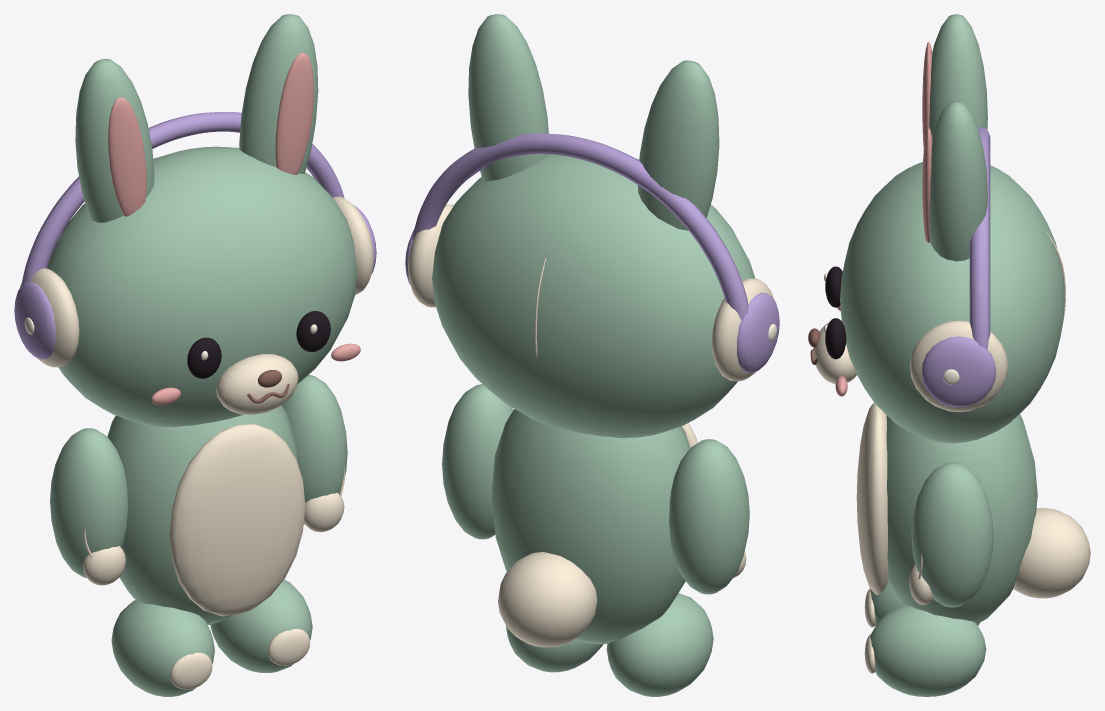
File: mint-bunny.glb
3 renders of one model, left to right at view 1: azimuth 30°, elevation 25°; view 2: azimuth 150°, elevation 25°; view 3: azimuth 270°, elevation 25°, orthographic. The views are drawn at different scales.
Parts seen in each view (by area): view 1: HeadSurface, BodySurface, LeftArmSurface, LeftFootSurface, RightArmSurface, RightFootSurface, LeftEyeSurface, RightEyeSurface; view 2: HeadSurface, BodySurface, LeftArmSurface, Cotton tail, RightArmSurface, LeftFootSurface, RightFootSurface; view 3: HeadSurface, BodySurface, RightArmSurface, RightFootSurface, Cotton tail, LeftFootSurface, RightEyeSurface, LeftEyeSurface.
Boxes of the visible parts, x1,y1,x2,y2 form: HeadSurface: (14,14,376,426); BodySurface: (107,405,305,624); LeftArmSurface: (50,428,127,585); LeftFootSurface: (111,600,214,696); RightArmSurface: (281,375,347,532); RightFootSurface: (210,579,312,672); LeftEyeSurface: (187,337,221,378); RightEyeSurface: (296,311,330,351); HeadSurface: (405,14,779,437); BodySurface: (491,409,697,644); LeftArmSurface: (669,439,749,594); Cotton tail: (498,552,597,647); RightArmSurface: (442,384,513,539); LeftFootSurface: (606,593,713,696); RightFootSurface: (505,625,603,672); HeadSurface: (808,14,1065,443); BodySurface: (856,403,1037,623); RightArmSurface: (909,462,993,607); RightFootSurface: (864,605,986,696); Cotton tail: (1013,508,1090,598); LeftFootSurface: (864,582,979,627); RightEyeSurface: (824,318,846,359); LeftEyeSurface: (824,266,842,307).
Size of the model in its own units: 1.2 by 2.1 by 0.879.
